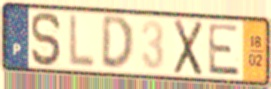3: (140, 19, 167, 73)
D: (100, 14, 136, 73)
E: (206, 22, 242, 78)
L: (67, 12, 98, 71)
S: (29, 10, 64, 68)
X: (172, 17, 205, 79)
